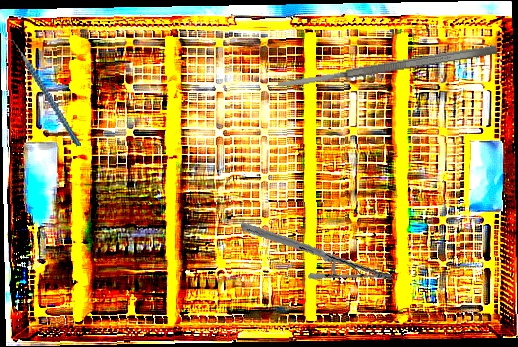Chopper: (2, 26, 82, 158)
Needle Holder: (240, 198, 394, 306)
Spatula Surgical: (277, 43, 498, 91)
